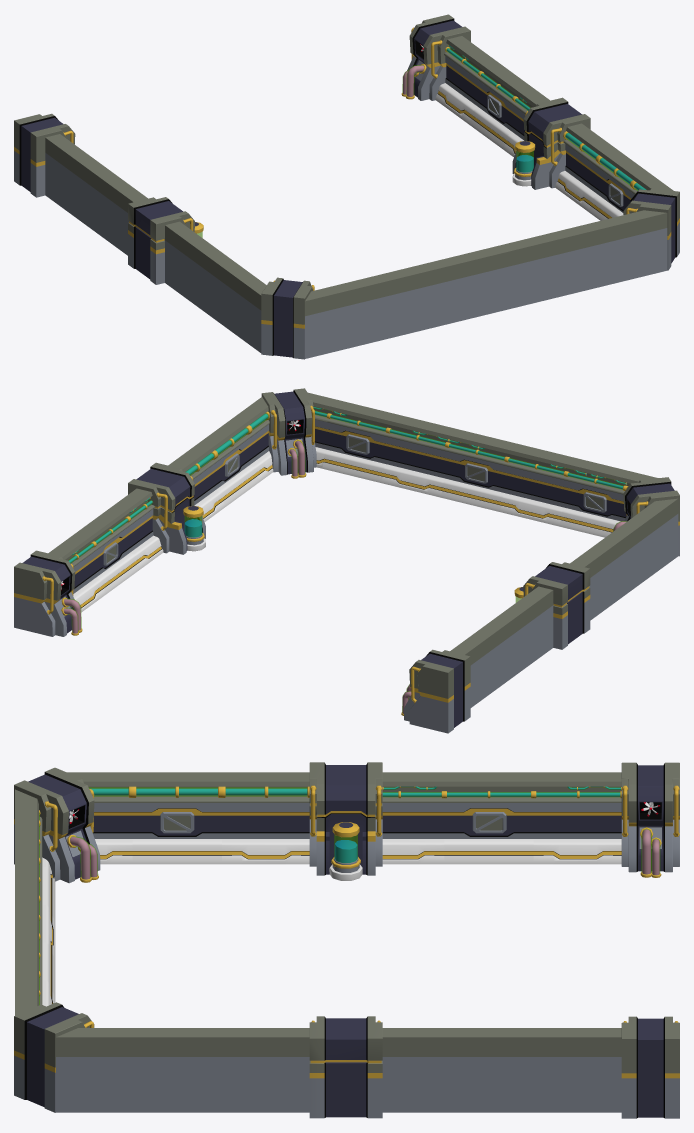
File: Bonus_Level3.fbx
3 renders of one model, top to bottom at view 1: azimuth 30°, elevation 25°; view 2: azimuth 150°, elevation 25°; view 3: azimuth 270°, elevation 25°, orthographic. The views are drawn at different scales.
Parts seen in each view (by area): view 1: Base (×24), Bottle; view 2: Base (×24), Bottle; view 3: Base (×24), Pipe1 (×4), Bottle, Cage (×2), Pipe2, Pipe3.
Part boxes in pixels (x1=…): Base (×24): x1=14, y1=14, x2=679, y2=359; Bottle: x1=512, y1=141, x2=535, y2=186; Base (×24): x1=14, y1=388, x2=679, y2=733; Bottle: x1=183, y1=506, x2=205, y2=551; Base (×24): x1=14, y1=762, x2=679, y2=1118; Pipe1 (×4): x1=67, y1=786, x2=653, y2=882; Bottle: x1=329, y1=822, x2=362, y2=880; Cage (×2): x1=160, y1=812, x2=506, y2=833; Pipe2: x1=445, y1=791, x2=534, y2=798; Pipe3: x1=534, y1=791, x2=621, y2=798.
Size of the model in its own units: 537 by 73.12 by 547.
